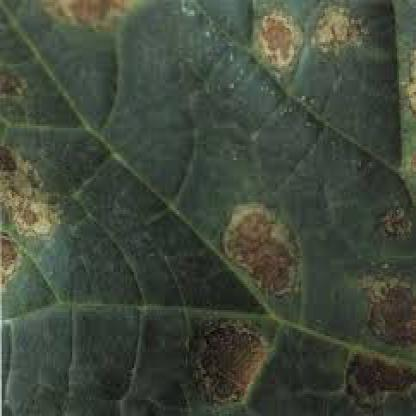Anthracnose: (177, 170, 414, 414), (0, 0, 363, 98)
